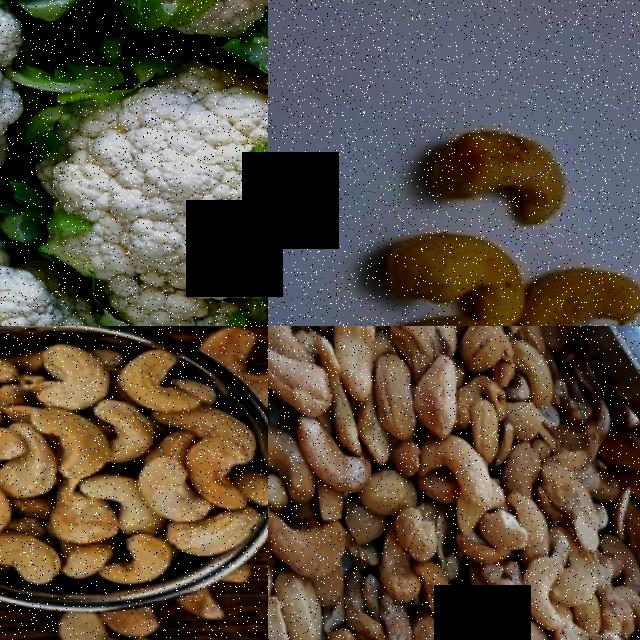cashew: (411, 117, 597, 224), (352, 221, 524, 302), (408, 423, 490, 513), (516, 269, 640, 326), (111, 327, 185, 422), (500, 536, 567, 640), (28, 403, 109, 487), (123, 446, 193, 531), (294, 429, 369, 499), (362, 340, 420, 429), (29, 346, 106, 413), (521, 461, 588, 534), (504, 329, 559, 409), (319, 326, 382, 395), (223, 326, 268, 418), (411, 355, 465, 428), (268, 349, 332, 407), (268, 515, 345, 563), (268, 569, 314, 640), (445, 326, 509, 376), (0, 536, 52, 588), (18, 622, 161, 640), (157, 590, 240, 614), (92, 607, 177, 629), (436, 615, 500, 640)
cauliflower: (0, 37, 268, 326)
